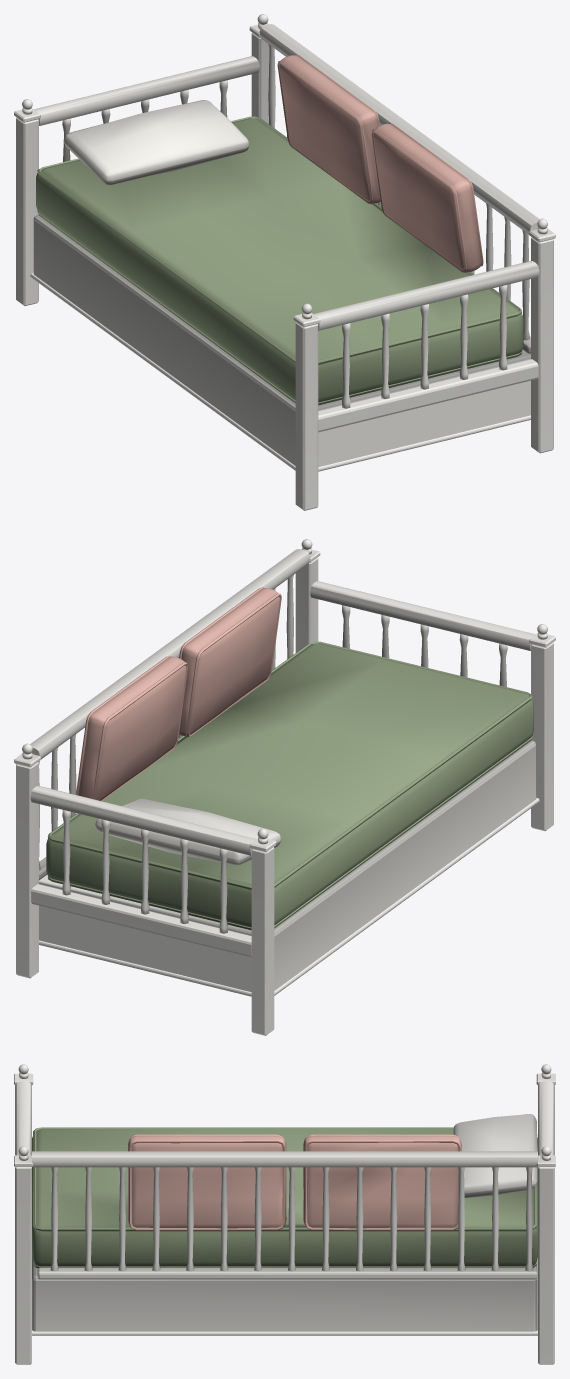
File: bedDaybed.glb
The picture shows the model from 3 angles, top to bottom: view 1: azimuth 30°, elevation 25°; view 2: azimuth 150°, elevation 25°; view 3: azimuth 270°, elevation 25°; orthographic projection. The views are drawn at different scales.
Visible parts, largest first — view 1: bedDaybed; view 2: bedDaybed; view 3: bedDaybed.
Boxes of the visible parts, <box> form: bedDaybed: <box>14,14,555,510</box>; bedDaybed: <box>14,539,555,1035</box>; bedDaybed: <box>14,1064,555,1364</box>.
Bounding box in the file's own units: 0.968 × 0.8402 × 1.92.
